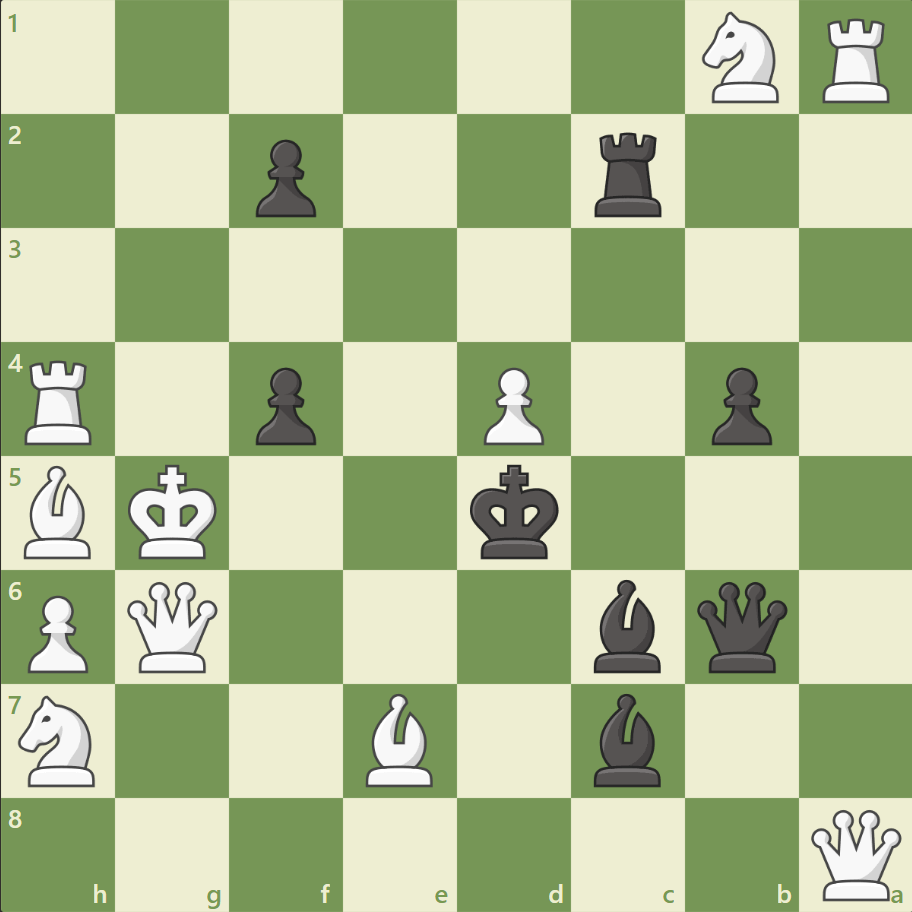B: (358, 687, 442, 790), (17, 460, 101, 563)
K: (124, 458, 224, 566)
N: (11, 688, 108, 791), (692, 7, 789, 110)
P: (20, 586, 95, 677), (474, 359, 549, 450)
Q: (124, 576, 223, 676), (805, 804, 904, 903)
R: (19, 352, 102, 449), (814, 12, 897, 109)
b: (585, 687, 669, 790), (585, 574, 669, 676)
k: (465, 458, 565, 566)
p: (701, 359, 776, 450), (247, 359, 322, 450), (247, 132, 322, 223)
q: (691, 576, 790, 676)
r: (587, 125, 670, 222)
